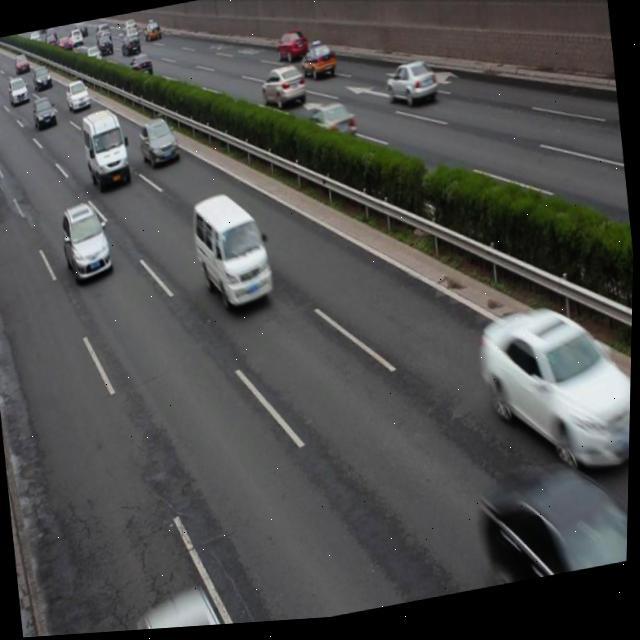car: (475, 297, 634, 495), (59, 197, 115, 287), (383, 59, 438, 115), (305, 103, 359, 157), (137, 117, 181, 175), (258, 65, 308, 116), (299, 42, 336, 89), (272, 30, 308, 69)
truck: (189, 187, 277, 318), (80, 106, 134, 196)
